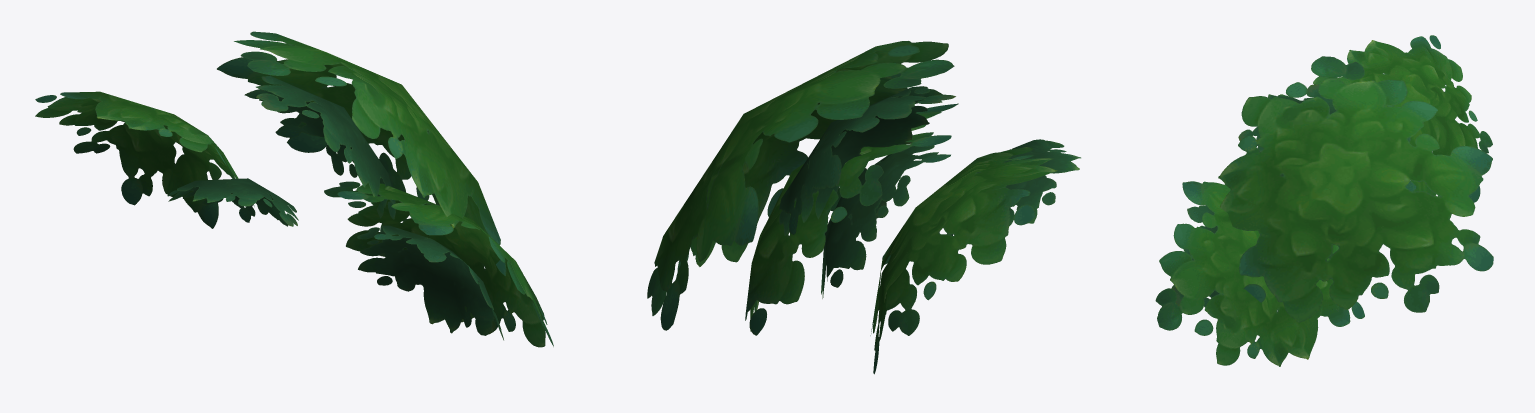
The model's file is ZJM_Sy01.FBX.
The picture shows the model from 3 angles, left to right: view 1: azimuth 30°, elevation 25°; view 2: azimuth 150°, elevation 25°; view 3: azimuth 270°, elevation 25°; orthographic projection. The views are drawn at different scales.
Parts seen in each view (by area): view 1: ZJM_shuye01; view 2: ZJM_shuye01; view 3: ZJM_shuye01.
Part boxes in pixels (x1,y1,x2,y2): ZJM_shuye01: [35, 31, 553, 347]; ZJM_shuye01: [647, 41, 1080, 374]; ZJM_shuye01: [1155, 35, 1493, 366].
Size of the model in its own units: 10.6 by 11.67 by 7.99.
Materials: 1 (1 with a texture image).
